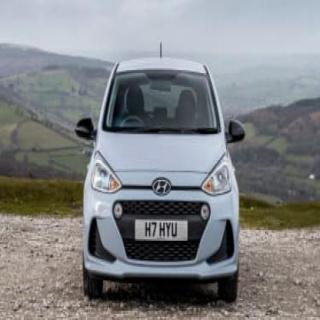Normal_vehicle: (75, 52, 245, 302)
